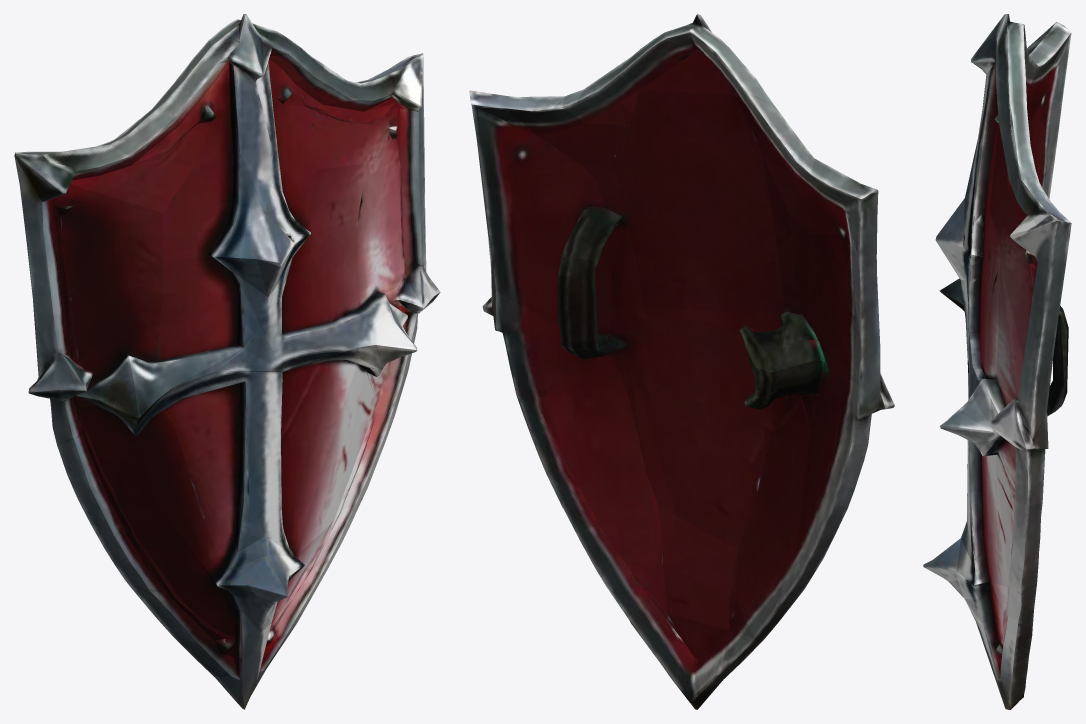
Rendered from combat_abandoned_shield_01.glb.
The picture shows the model from 3 angles, left to right: view 1: azimuth 30°, elevation 25°; view 2: azimuth 150°, elevation 25°; view 3: azimuth 270°, elevation 25°; orthographic projection.
Parts seen in each view (by area): view 1: geometry_0; view 2: geometry_0; view 3: geometry_0.
Boxes of the visible parts, bbox=[...] form: geometry_0: bbox=[14, 14, 440, 709]; geometry_0: bbox=[469, 14, 894, 709]; geometry_0: bbox=[923, 14, 1071, 709].
Bounding box in the file's own units: 0.6198 × 0.999 × 0.193.
Materials: 1 (1 with a texture image).
